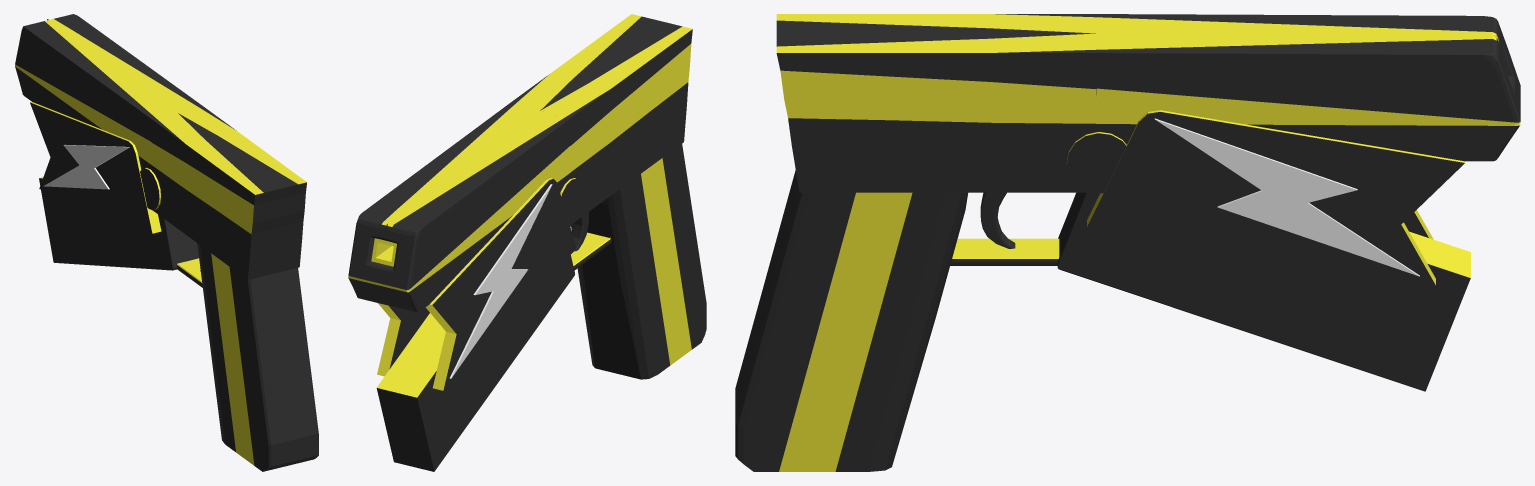
File: 銃＿変形済み.fbx
3 views of the same model, side by side, from view 1: azimuth 30°, elevation 25°; view 2: azimuth 150°, elevation 25°; view 3: azimuth 270°, elevation 25° (orthographic). The views are drawn at different scales.
Parts seen in each view (by area): view 1: 平面, 円柱.001, 円柱; view 2: 平面, 円柱.001, 円柱; view 3: 平面, 円柱.001, 円柱.
Boxes of the visible parts, box(x1,y1,x2,y2) form: 平面: box(15, 14, 318, 471); 円柱.001: box(30, 102, 161, 233); 円柱: box(39, 167, 198, 270); 平面: box(348, 14, 706, 379); 円柱.001: box(377, 178, 576, 390); 円柱: box(376, 178, 583, 471); 平面: box(735, 14, 1520, 471); 円柱.001: box(1087, 110, 1465, 285); 円柱: box(1057, 132, 1470, 391).
Size of the model in its own units: 0.0342 by 0.15 by 0.2548.
